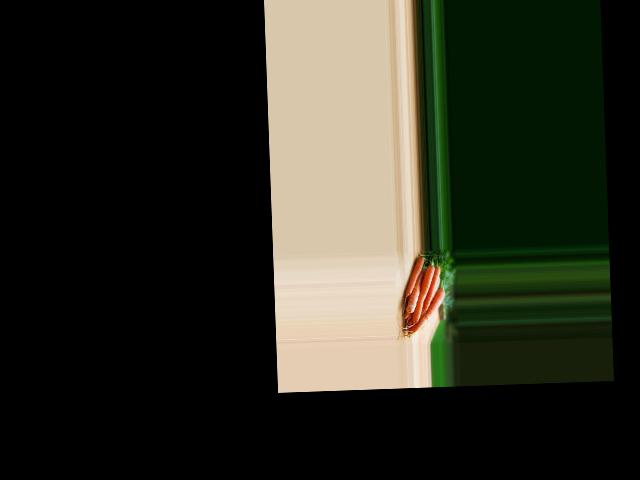carrot: (397, 254, 424, 300)
